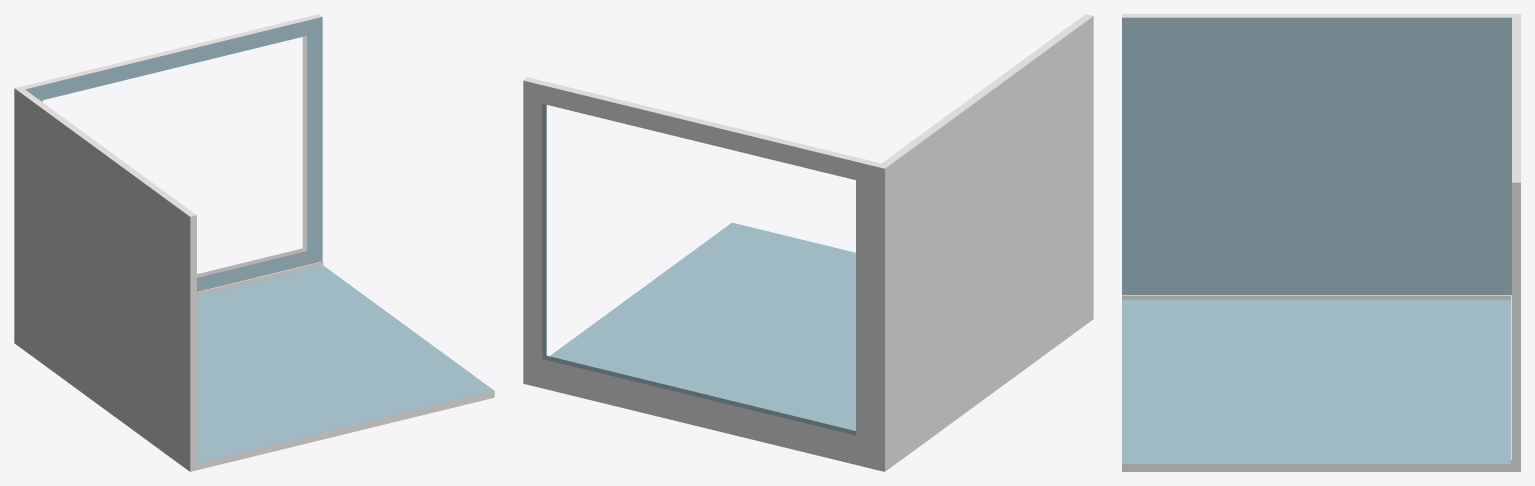
File: Yogaroom_base.fbx
3 renders of one model, left to right at view 1: azimuth 30°, elevation 25°; view 2: azimuth 150°, elevation 25°; view 3: azimuth 270°, elevation 25°, orthographic. The views are drawn at different scales.
Parts seen in each view (by area): view 1: Yogaroom_base; view 2: Yogaroom_base; view 3: Yogaroom_base.
Part boxes in pixels (left/top/right/bottom): Yogaroom_base: left=14, top=14, right=494, bottom=471; Yogaroom_base: left=523, top=14, right=1093, bottom=471; Yogaroom_base: left=1122, top=14, right=1520, bottom=471.
Size of the model in its own units: 500 by 401 by 500.
